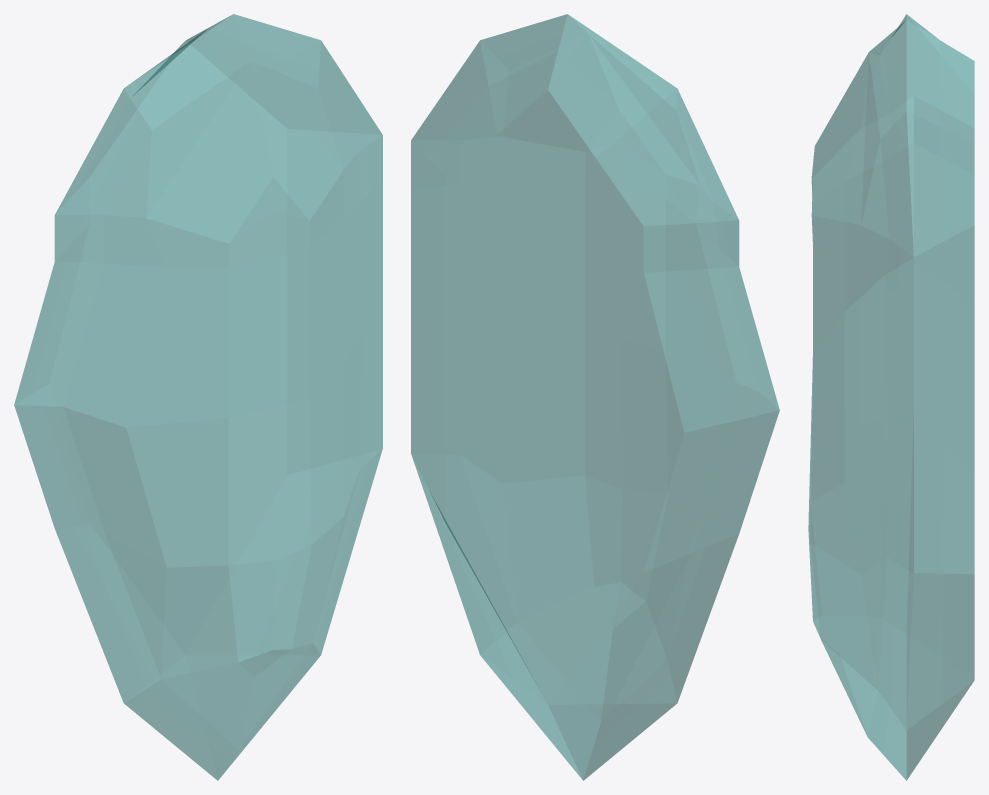
File: Gem.fbx
3 renders of one model, left to right at view 1: azimuth 30°, elevation 25°; view 2: azimuth 150°, elevation 25°; view 3: azimuth 270°, elevation 25°, orthographic.
Parts seen in each view (by area): view 1: pCube6; view 2: pCube6; view 3: pCube6.
Boxes of the visible parts, box(x1,y1,x2,y2) form: pCube6: box(14, 14, 382, 780); pCube6: box(411, 14, 779, 780); pCube6: box(808, 14, 974, 780).
Bounding box in the file's own units: 1.13 × 2.23 × 0.4374.
